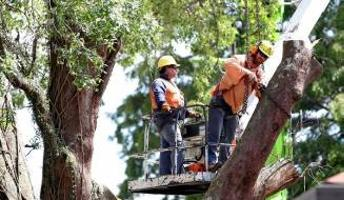person: (201, 39, 273, 174)
